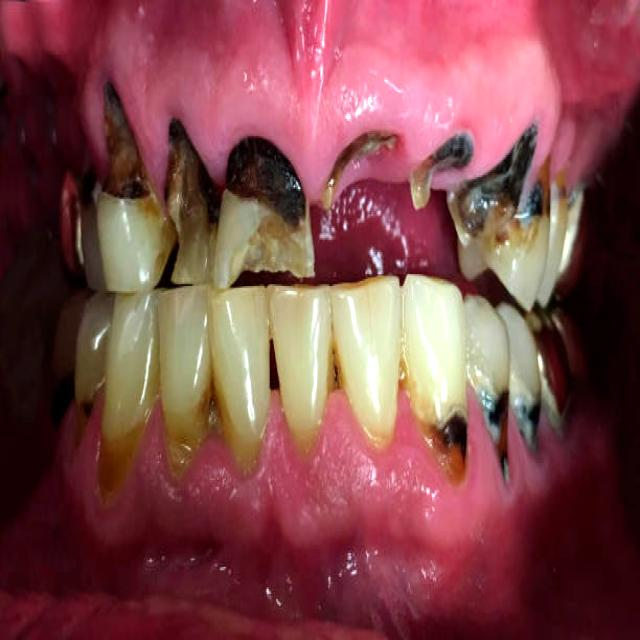gingivitis: (60, 391, 639, 635), (0, 0, 639, 203)
